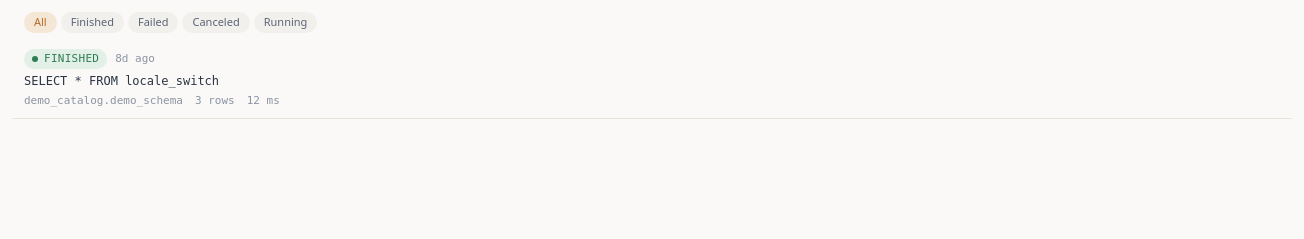
Test: HistoryPanel: ロケール切替でフィルタチップ/操作ボタンが日英で切り替わる › en ロケールでは既存どおり英語ラベルのまま
Click the 6th button: click(66, 59) [12,40,1292,118]
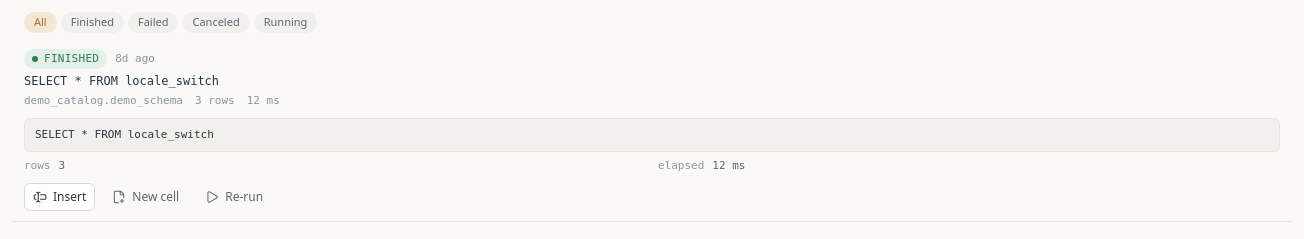
Expected: the text "Insert" is shown, [24,182,95,210]
Expected: the text "New cell" is shown, [103,182,188,210]
Expected: the text "Re-run" is shown, [196,182,272,210]
